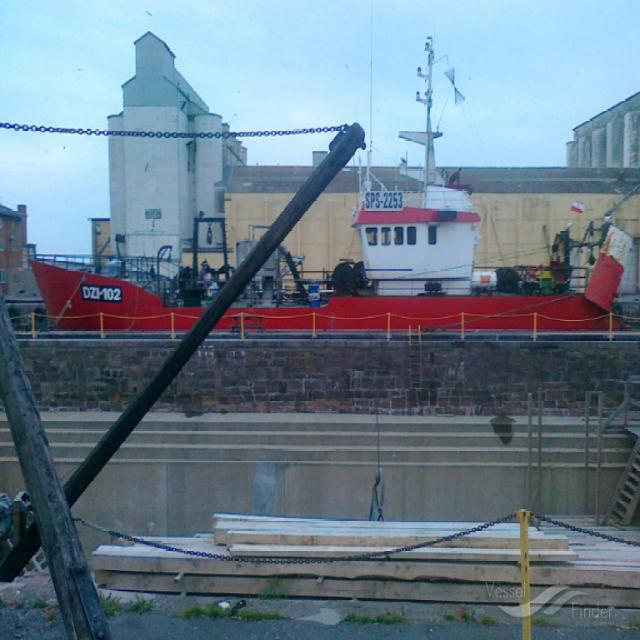Fishing Vessel: (22, 180, 625, 332)
